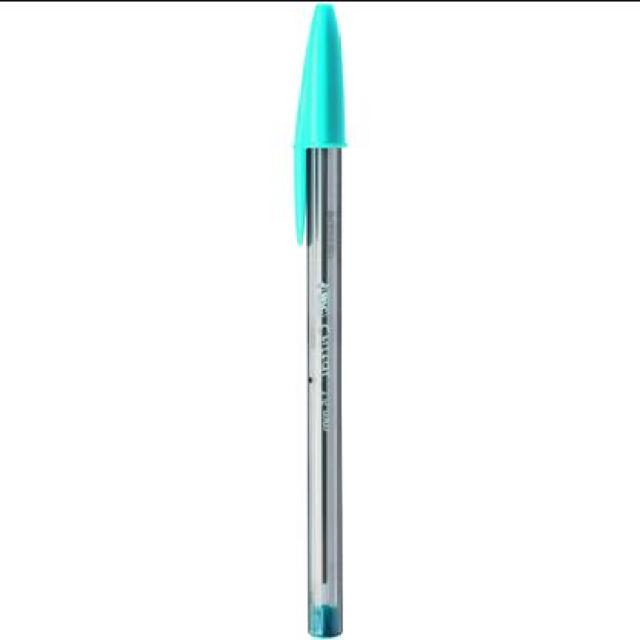pen: (291, 7, 347, 638)
